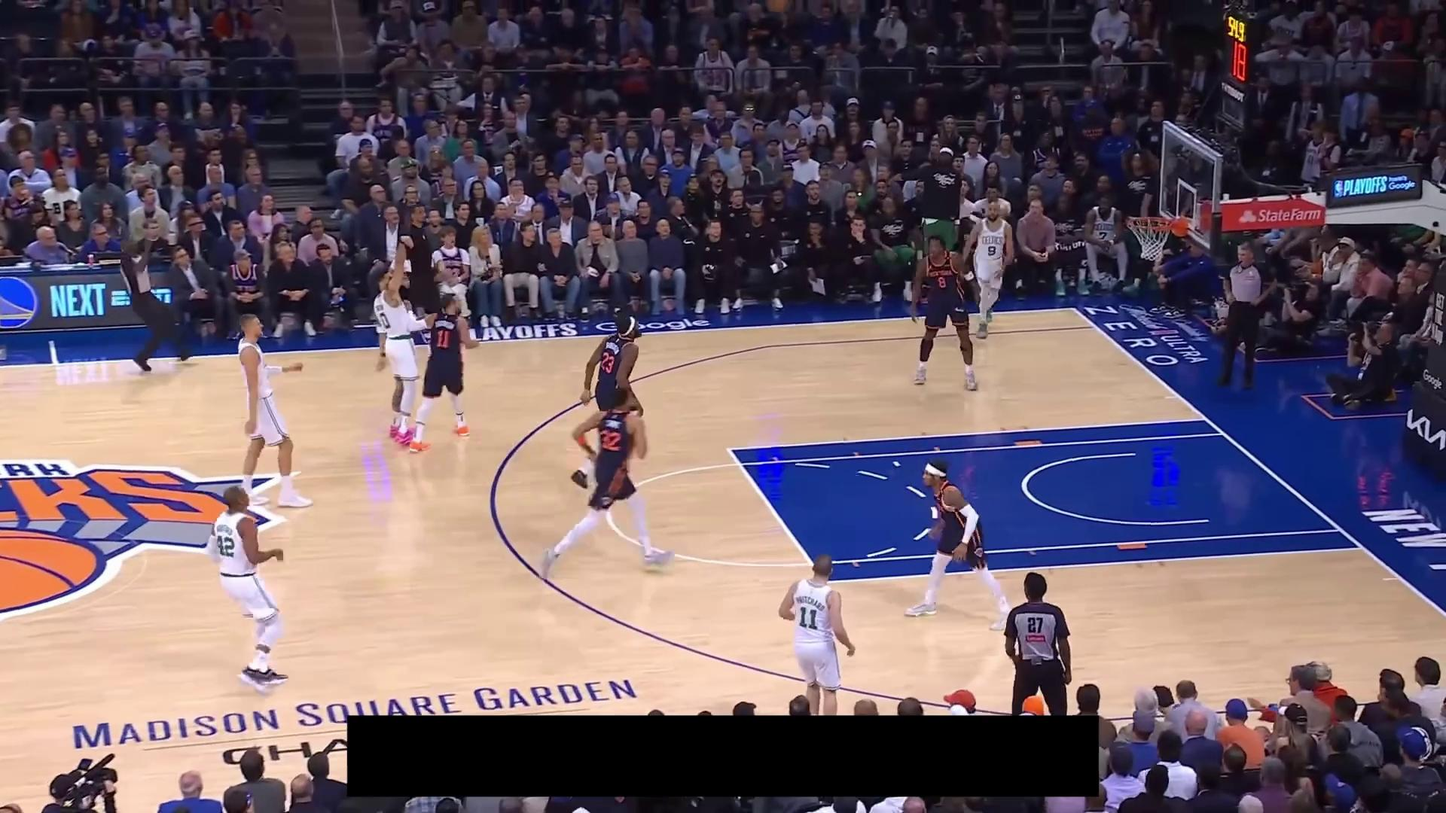ball: (764, 0, 792, 13)
number: (599, 429, 622, 451), (216, 534, 235, 558), (798, 606, 817, 629), (601, 352, 615, 374), (436, 330, 450, 349), (380, 311, 391, 329), (937, 276, 947, 289), (987, 245, 997, 257)
player: (539, 385, 678, 582), (901, 456, 1012, 632), (202, 484, 291, 696), (234, 312, 313, 510), (776, 550, 857, 716), (396, 292, 480, 452), (572, 312, 646, 491), (909, 233, 981, 392), (375, 236, 427, 449), (961, 198, 1015, 340)
referee: (119, 227, 198, 373), (1003, 571, 1073, 716), (1216, 241, 1279, 389)
rim: (1127, 216, 1173, 230)
